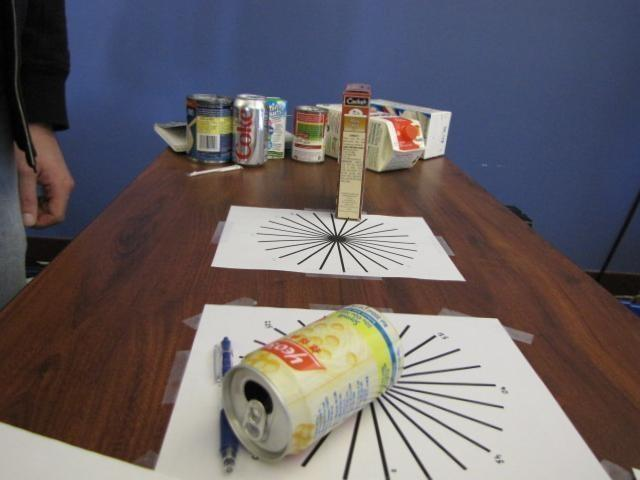tin can: (221, 299, 407, 466), (230, 92, 272, 168)
